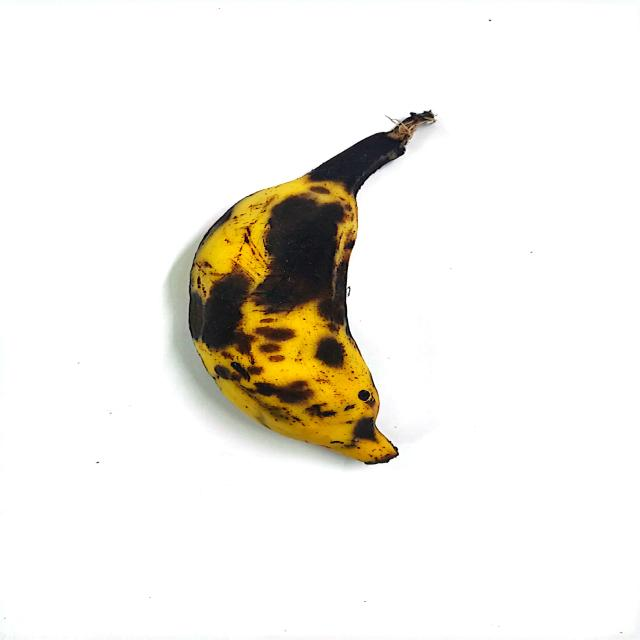rotten_banana: (183, 133, 402, 463)
